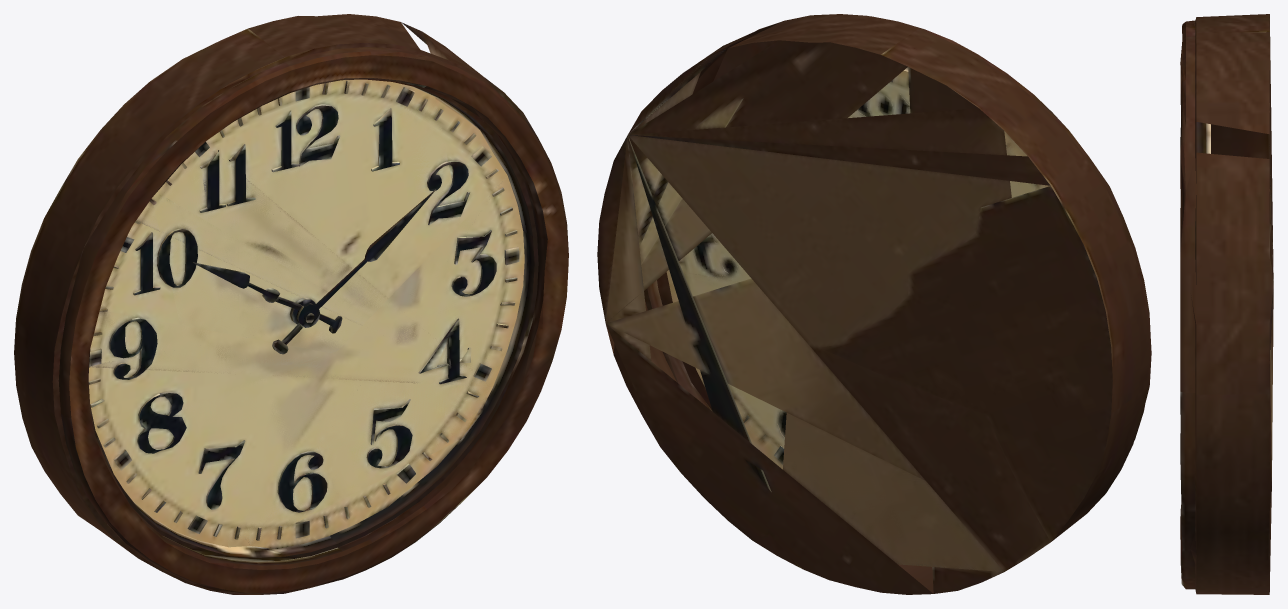
The model's file is wall_clock.glb.
The picture shows the model from 3 angles, left to right: view 1: azimuth 30°, elevation 25°; view 2: azimuth 150°, elevation 25°; view 3: azimuth 270°, elevation 25°; orthographic projection. The views are drawn at different scales.
Size of the model in its own units: 0.34 by 0.3393 by 0.0548.
Materials: 1 (1 with a texture image).
